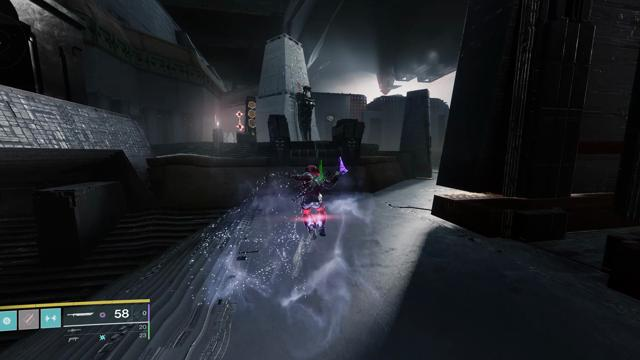brain: (326, 115, 334, 122)
